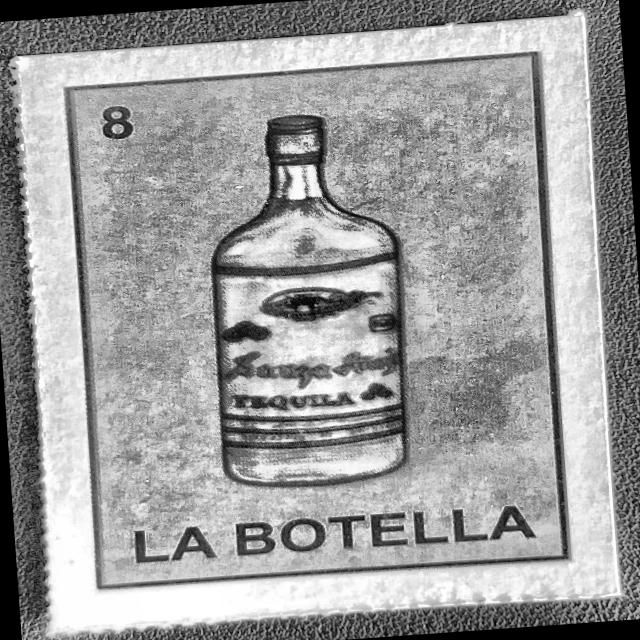La Botella: (27, 22, 610, 623)
